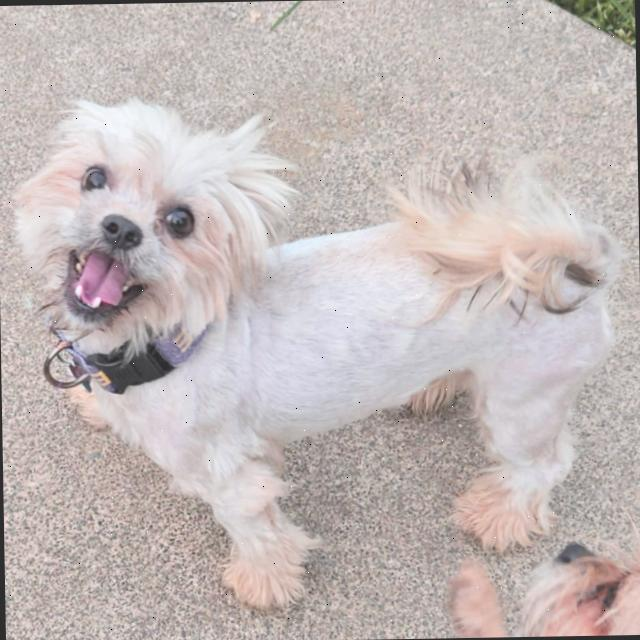shih_tzu_dog: (1, 82, 314, 404)
